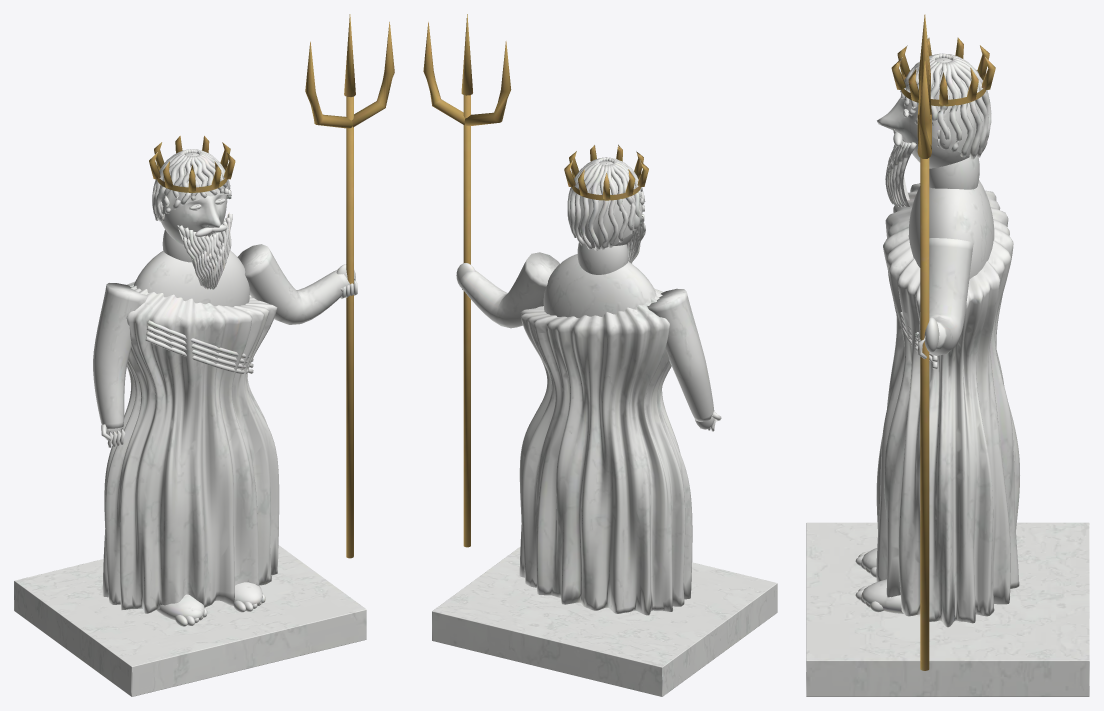
Rendered from colossal_sea_god.glb.
3 renders of one model, left to right at view 1: azimuth 30°, elevation 25°; view 2: azimuth 150°, elevation 25°; view 3: azimuth 270°, elevation 25°, orthographic. The views are drawn at different scales.
Visible parts, largest first — view 1: 11 Colossal Sea God; view 2: 11 Colossal Sea God; view 3: 11 Colossal Sea God.
Boxes of the visible parts, bbox=[...] form: 11 Colossal Sea God: bbox=[14, 14, 394, 696]; 11 Colossal Sea God: bbox=[423, 14, 777, 696]; 11 Colossal Sea God: bbox=[806, 14, 1089, 696].
Bounding box in the file's own units: 7.48 × 13.35 × 4.9.
Materials: 3 (3 with a texture image).
